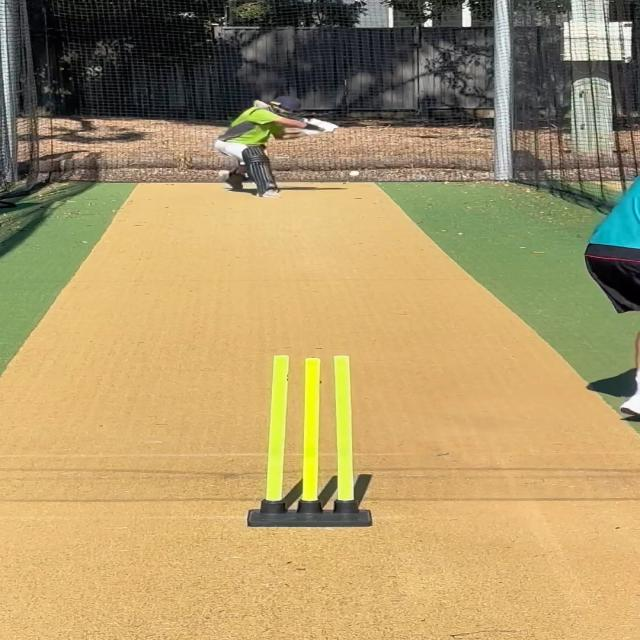ball: (348, 170, 360, 178)
stump: (244, 354, 374, 529)
